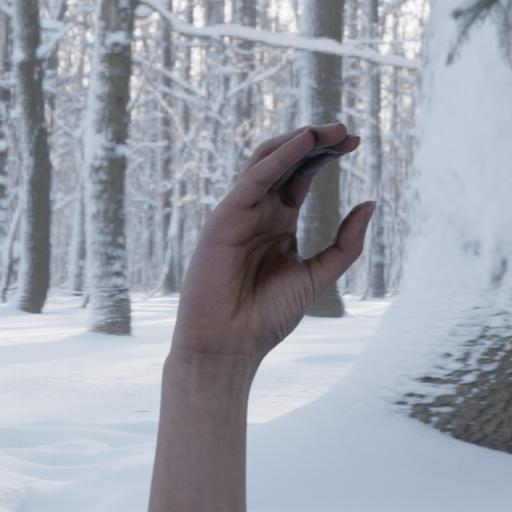C: (159, 112, 391, 433)
